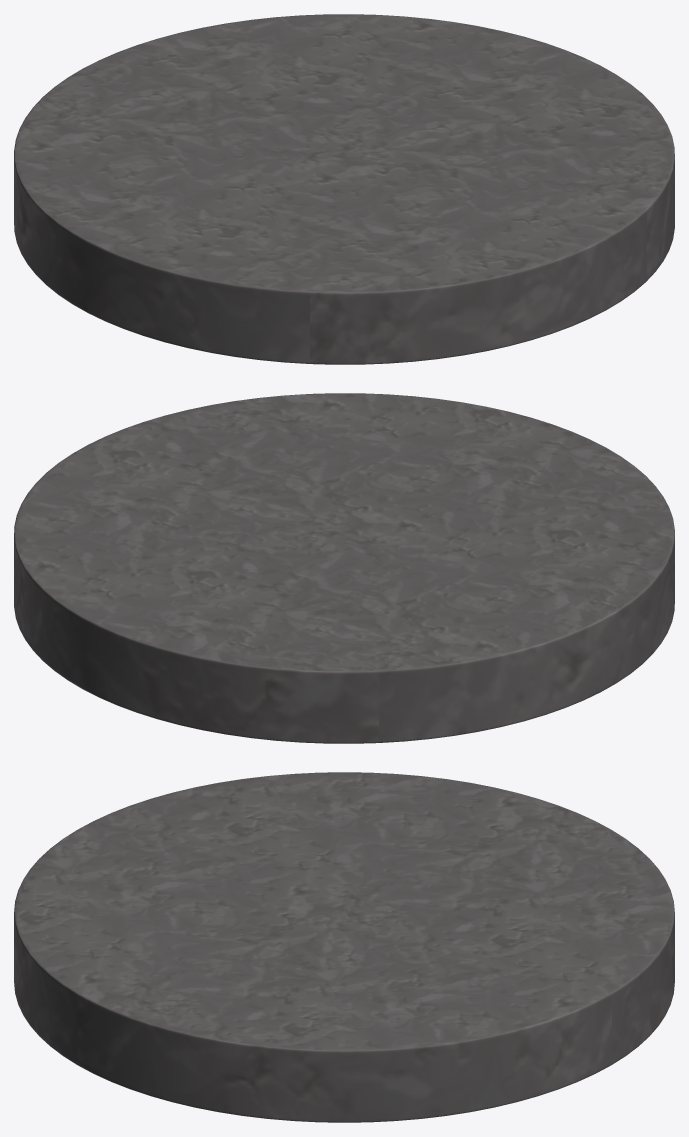
The picture shows the model from 3 angles, top to bottom: view 1: azimuth 30°, elevation 25°; view 2: azimuth 150°, elevation 25°; view 3: azimuth 270°, elevation 25°; orthographic projection.
Parts seen in each view (by area): view 1: Walls:Center_Hole; view 2: Walls:Center_Hole; view 3: Walls:Center_Hole.
Boxes of the visible parts, box(x1,y1,x2,y2) form: Walls:Center_Hole: box(14, 14, 674, 364); Walls:Center_Hole: box(14, 393, 674, 743); Walls:Center_Hole: box(14, 772, 674, 1122).
Size of the model in its own units: 4.11 by 0.5 by 4.11.
1 material, 1 textured.
